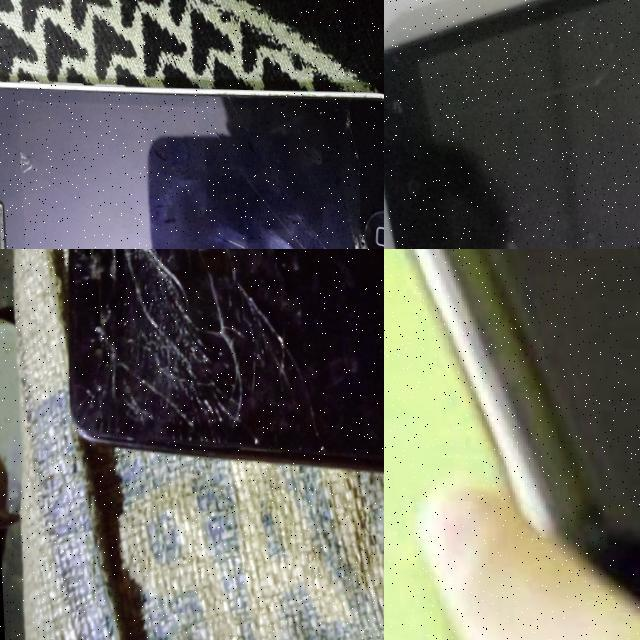screen crack: (51, 249, 289, 461), (522, 47, 621, 124), (0, 128, 49, 194)
